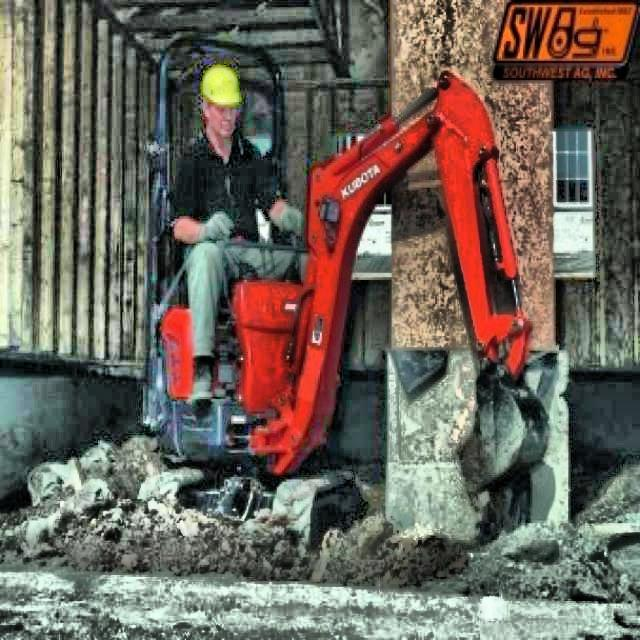bull_dozer/loader/grader: (138, 31, 550, 554)
person: (166, 64, 306, 408)
